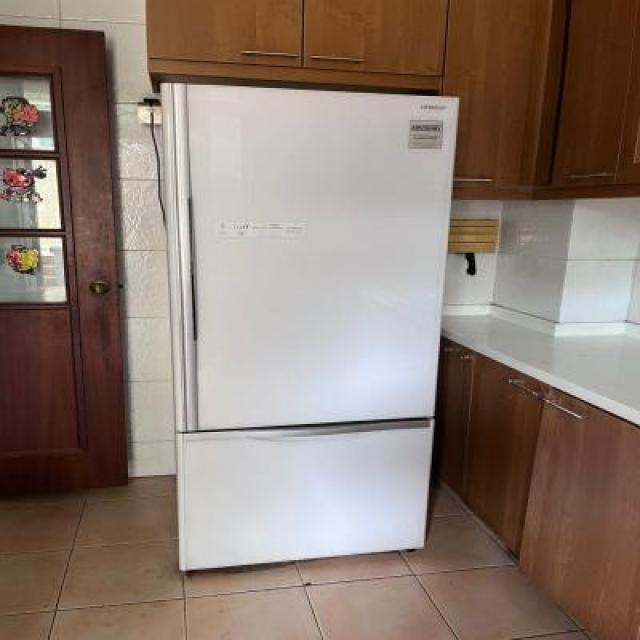refrigerator: (159, 81, 462, 572)
